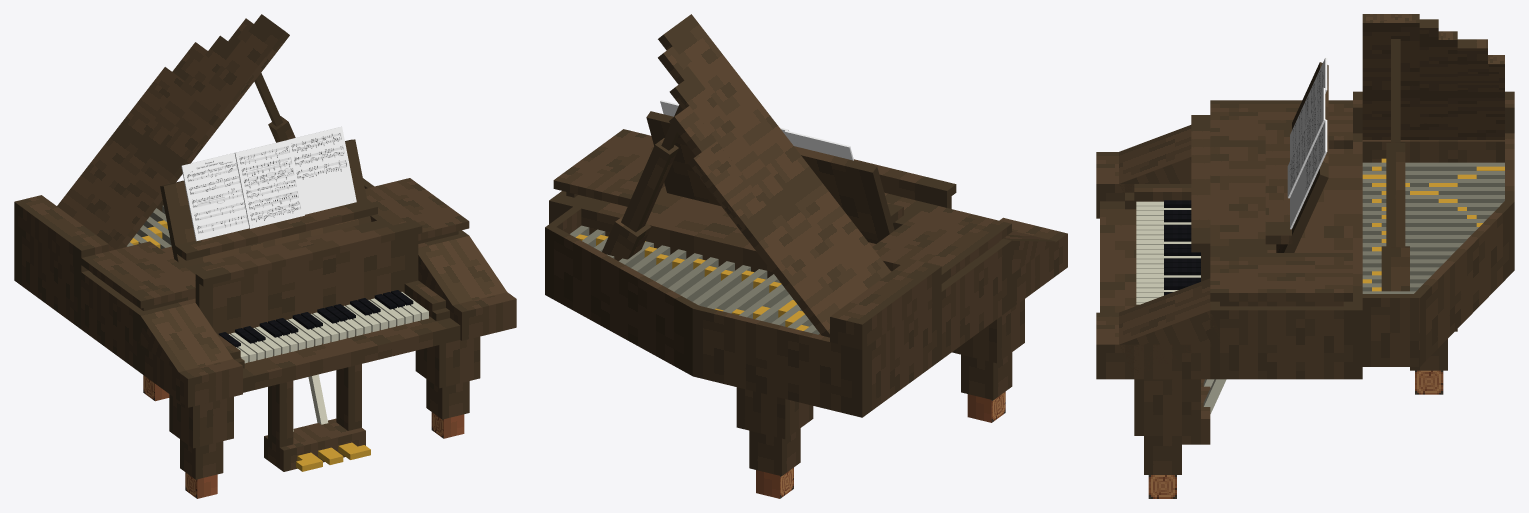
The model's file is piano.glb.
The picture shows the model from 3 angles, left to right: view 1: azimuth 30°, elevation 25°; view 2: azimuth 150°, elevation 25°; view 3: azimuth 270°, elevation 25°; orthographic projection. The views are drawn at different scales.
Visible parts, largest first — view 1: Object_11, Object_13, Object_3, Object_8, Object_4, Object_9, Object_12, Object_6, Object_2, Object_5; view 2: Object_11, Object_2, Object_12, Object_8, Object_6, Object_5; view 3: Object_11, Object_2, Object_13, Object_9, Object_8, Object_5, Object_12, Object_3, Object_4.
Part boxes in pixels (x1,y1,x2,y2): Object_11: [14, 14, 516, 479]; Object_13: [229, 292, 428, 431]; Object_3: [235, 139, 304, 228]; Object_8: [181, 126, 341, 240]; Object_4: [290, 127, 356, 214]; Object_9: [218, 290, 413, 347]; Object_12: [130, 220, 370, 471]; Object_6: [155, 384, 464, 498]; Object_2: [126, 205, 171, 248]; Object_5: [143, 375, 443, 498]; Object_11: [545, 14, 1067, 476]; Object_2: [570, 225, 819, 334]; Object_12: [576, 234, 808, 330]; Object_8: [660, 100, 853, 160]; Object_6: [756, 394, 991, 498]; Object_5: [780, 391, 1005, 498]; Object_11: [1096, 14, 1514, 474]; Object_2: [1362, 162, 1504, 293]; Object_13: [1136, 201, 1226, 413]; Object_9: [1164, 200, 1200, 295]; Object_8: [1288, 57, 1327, 229]; Object_5: [1148, 370, 1443, 498]; Object_12: [1362, 158, 1504, 291]; Object_3: [1287, 88, 1323, 197]; Object_4: [1290, 121, 1325, 228].
Bounding box in the file's own units: 48 × 50.16 × 44.
Materials: 12 (8 with a texture image).
